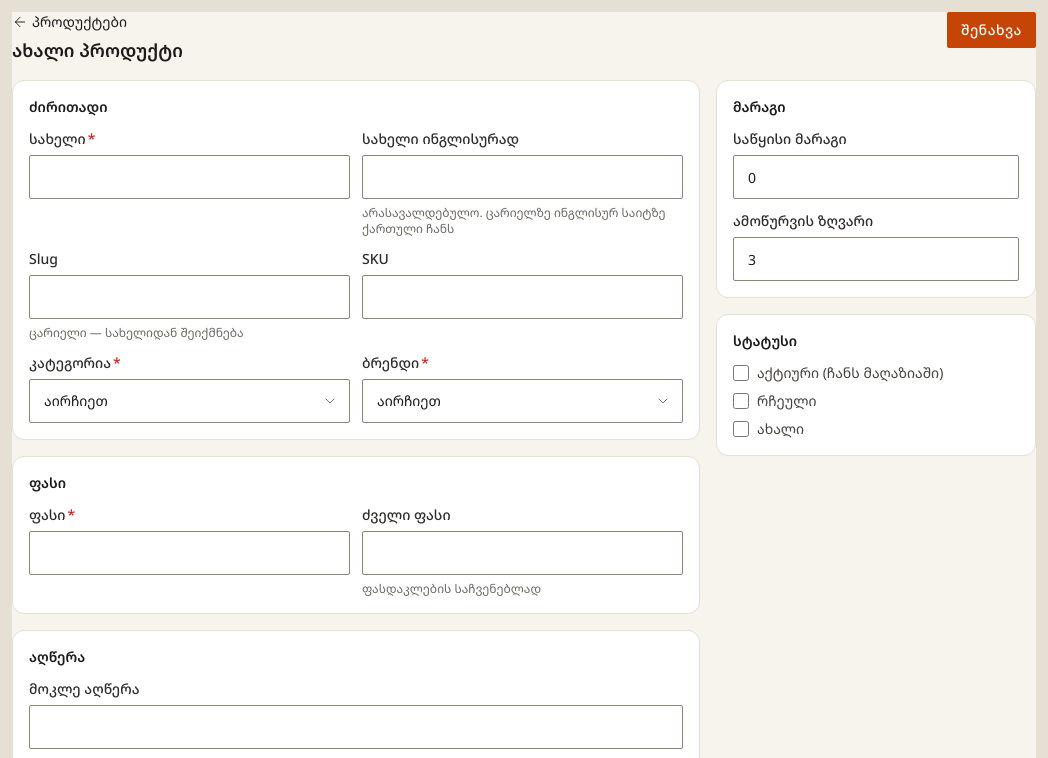
Test case: ProductForm server errors › never swallows a rejection whose field the form cannot show
Expected: the dropdown labelled "კატეგორია*" is shown, [29,379,350,423]
Type "ტესტი" into the field labelled "სახელი*". click: (190, 177)
box: [29,155,350,199]
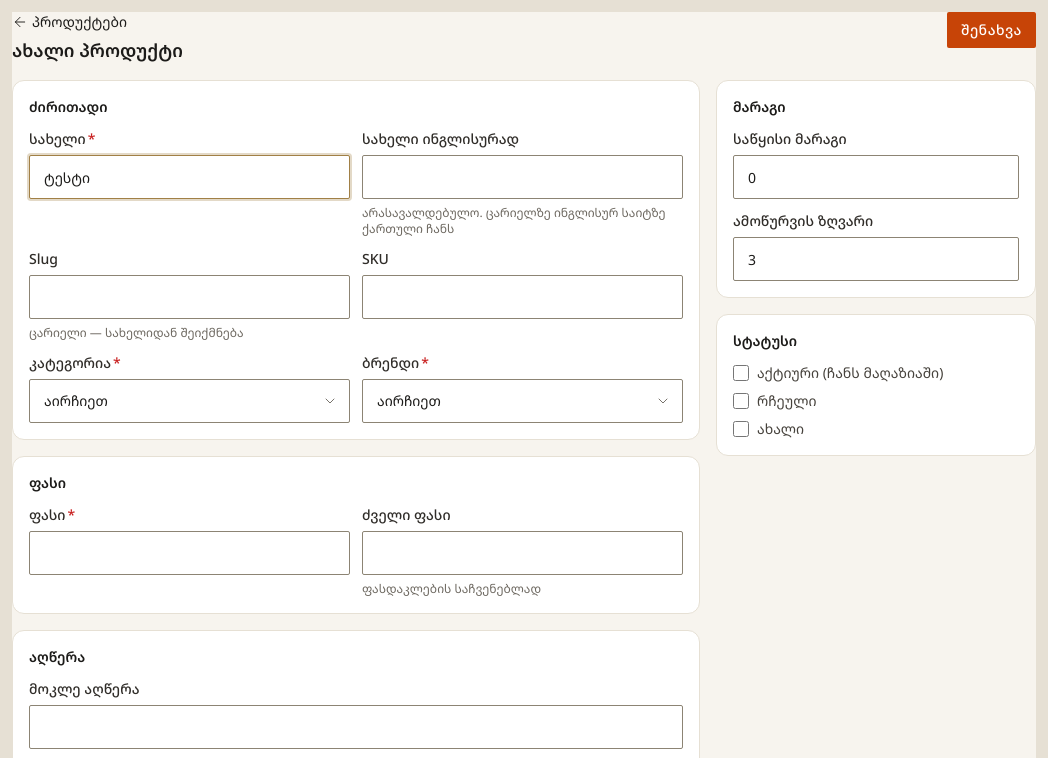
Type "10" into the field labelled "ფასი*". click: (190, 553)
box: [29,531,350,575]
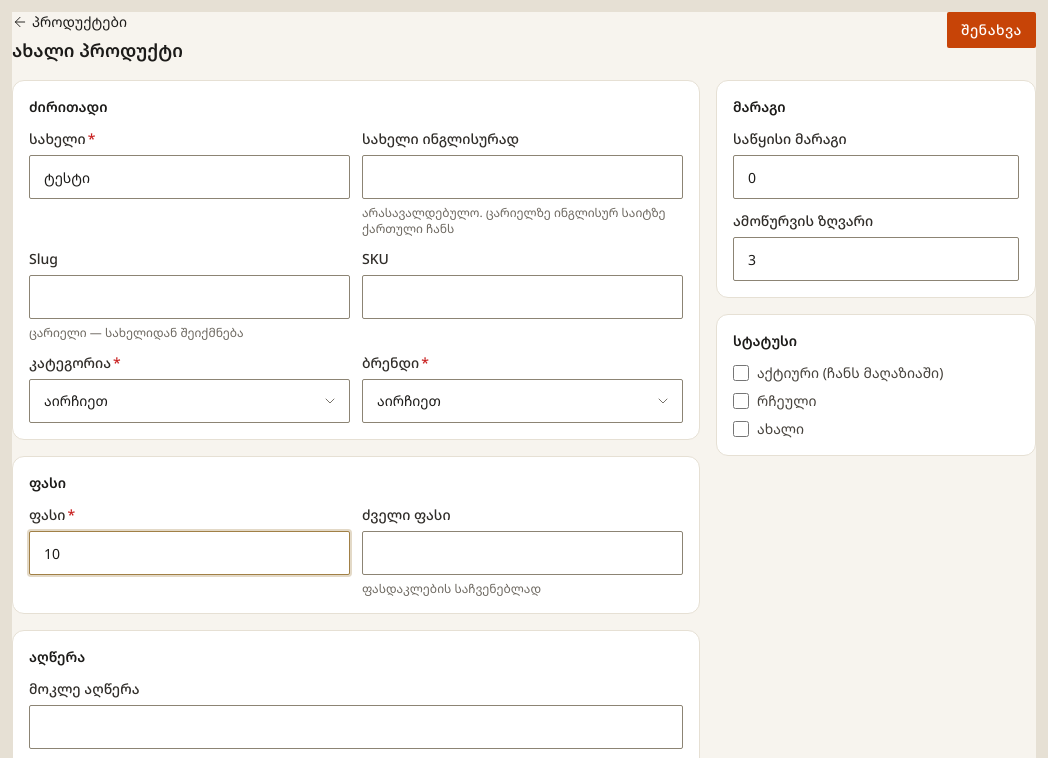
Select "ტელეფონები" in the dropdown labelled "კატეგორია*". click: (190, 401)
box: [29,379,350,423]
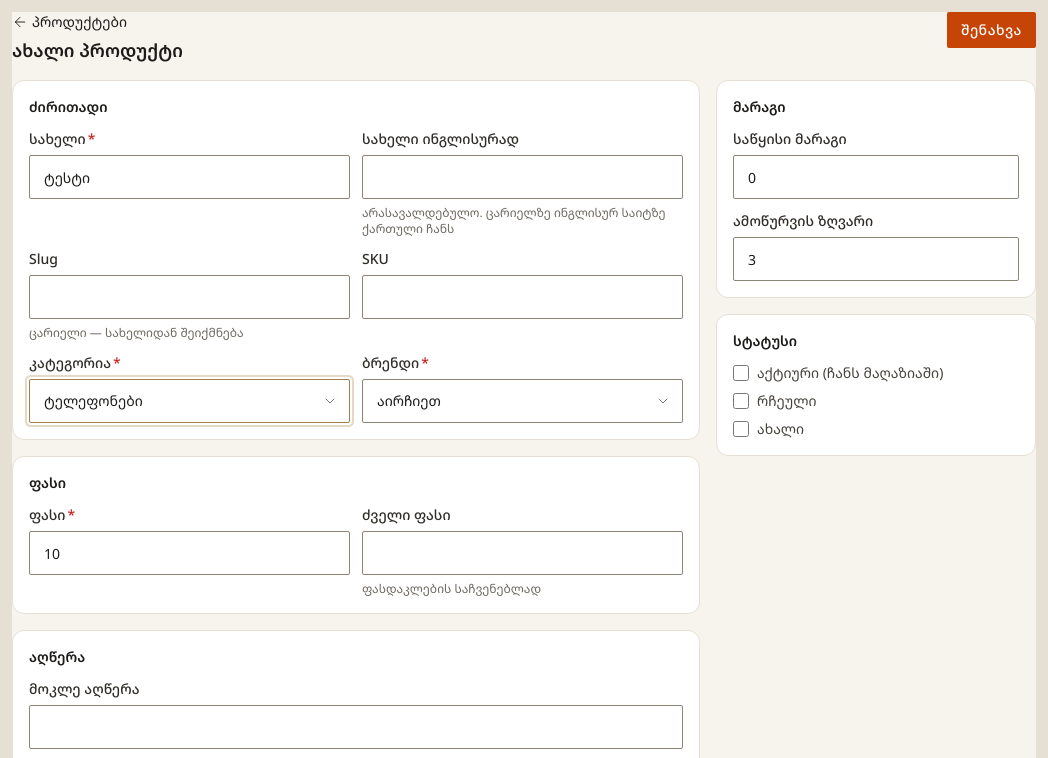
Select "Apple" in the dropdown labelled "ბრენდი*". click: (522, 401)
box: [362,379,683,423]
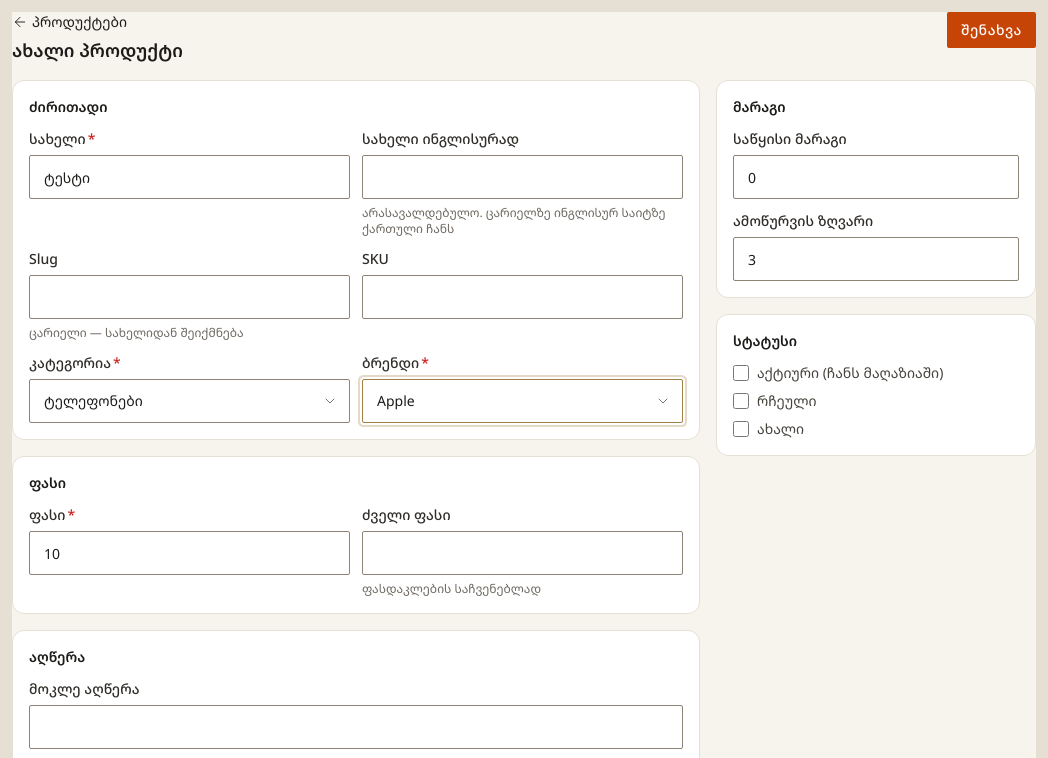
Click the button "შენახვა". click: click(992, 30)
box: [947,12,1036,48]
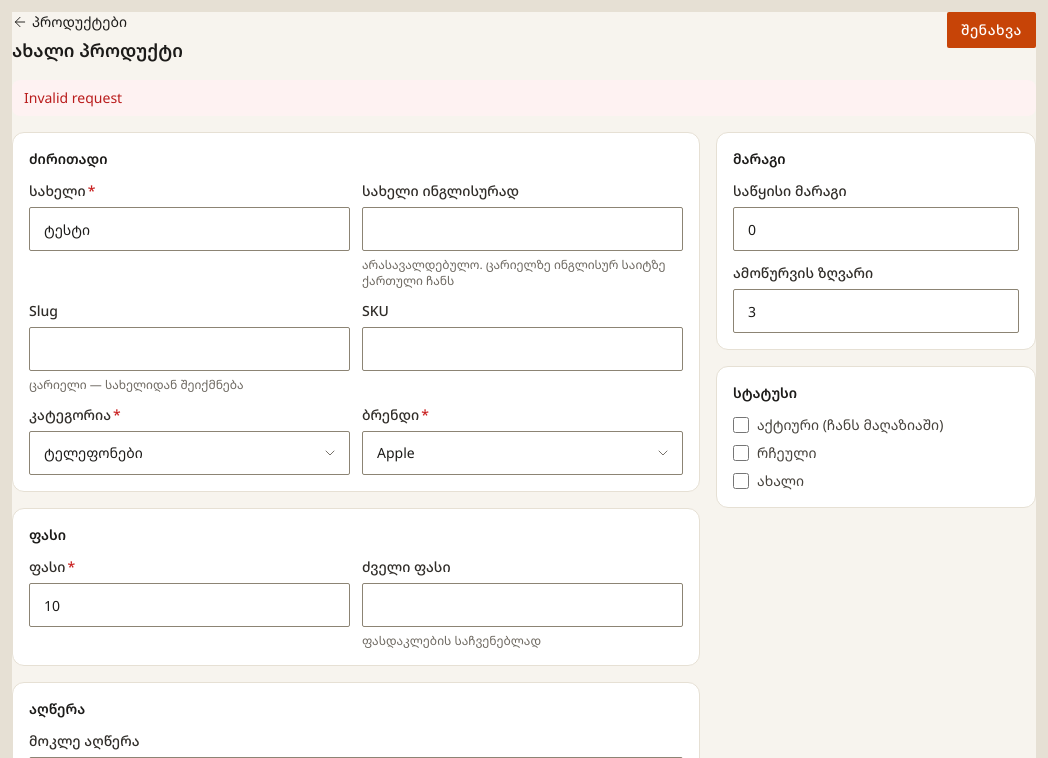
Result: the message reads "Invalid request" at [24,88,122,107]
